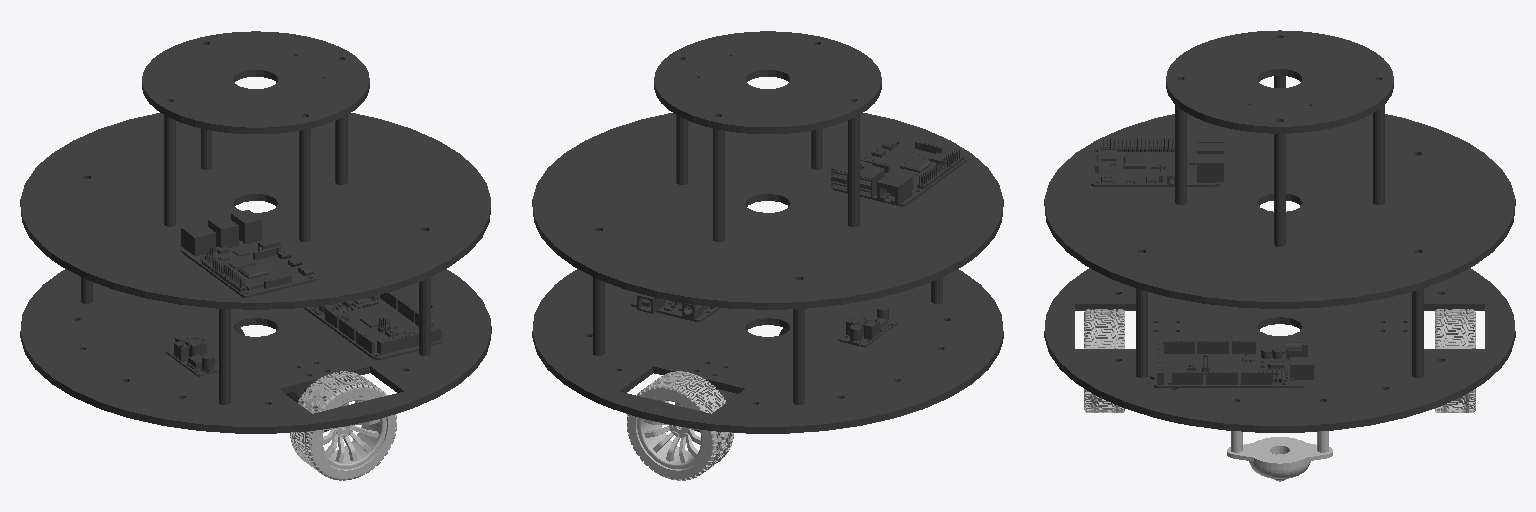
URDF robot description (krontonbot):
<?xml version="1.0" encoding="utf-8"?>
<!-- This URDF was automatically created by SolidWorks to URDF Exporter! Originally created by Stephen Brawner (brawner@gmail.com) 
     Commit Version: 1.6.0-1-g15f4949  Build Version: 1.6.7594.29634
     For more information, please see http://wiki.ros.org/sw_urdf_exporter -->
<robot
  name="krontonbot">
  <link
    name="base_link">
    <inertial>
      <origin
        xyz="-8.53428389885336E-05 -0.00202496133622002 0.059024928729213"
        rpy="0 0 0" />
      <mass
        value="1.16652586484334" />
      <inertia
        ixx="0.00559816194279088"
        ixy="4.88502656787066E-08"
        ixz="-3.25439864111426E-08"
        iyy="0.00608429215928661"
        iyz="1.90242300588512E-07"
        izz="0.01165291250337" />
    </inertial>
    <visual>
      <origin
        xyz="0 0 0"
        rpy="0 0 0" />
      <geometry>
        <mesh
          filename="package://krontonbot_description/meshes/base_link.STL" />
      </geometry>
      <material
        name="">
        <color
          rgba="0.298039215686275 0.298039215686275 0.298039215686275 1" />
      </material>
    </visual>
    <collision>
      <origin
        xyz="0 0 0"
        rpy="0 0 0" />
      <geometry>
        <mesh
          filename="package://krontonbot_description/meshes/base_link.STL" />
      </geometry>
    </collision>
  </link>
  <link
    name="left_wheel">
    <inertial>
      <origin
        xyz="6.2373E-10 -5.5317E-10 3.9908E-05"
        rpy="0 0 0" />
      <mass
        value="0.035175" />
      <inertia
        ixx="1.5237E-05"
        ixy="3.7076E-10"
        ixz="-5.6702E-14"
        iyy="1.5237E-05"
        iyz="4.8698E-14"
        izz="2.5786E-05" />
    </inertial>
    <visual>
      <origin
        xyz="0 0 0"
        rpy="0 0 0" />
      <geometry>
        <mesh
          filename="package://krontonbot_description/meshes/left_wheel.STL" />
      </geometry>
      <material
        name="">
        <color
          rgba="0.75294 0.75294 0.75294 1" />
      </material>
    </visual>
    <collision>
      <origin
        xyz="0 0 0"
        rpy="0 0 0" />
      <geometry>
        <mesh
          filename="package://krontonbot_description/meshes/left_wheel.STL" />
      </geometry>
    </collision>
  </link>
  <joint
    name="left_wheel_joint"
    type="continuous">
    <origin
      xyz="0 0.11511 -0.02"
      rpy="-1.5708 0 -3.1416" />
    <parent
      link="base_link" />
    <child
      link="left_wheel" />
    <axis
      xyz="0 0 -1" />
  </joint>
  <link
    name="right_wheel">
    <inertial>
      <origin
        xyz="8.58566440165021E-10 2.46938719472567E-11 -3.99077934541432E-05"
        rpy="0 0 0" />
      <mass
        value="0.0351748274831478" />
      <inertia
        ixx="1.52367980613616E-05"
        ixy="-3.68845709547513E-10"
        ixz="6.93589578763181E-14"
        iyy="1.52374644129476E-05"
        iyz="-8.10595878360431E-15"
        izz="2.57858861191368E-05" />
    </inertial>
    <visual>
      <origin
        xyz="0 0 0"
        rpy="0 0 0" />
      <geometry>
        <mesh
          filename="package://krontonbot_description/meshes/right_wheel.STL" />
      </geometry>
      <material
        name="">
        <color
          rgba="0.752941176470588 0.752941176470588 0.752941176470588 1" />
      </material>
    </visual>
    <collision>
      <origin
        xyz="0 0 0"
        rpy="0 0 0" />
      <geometry>
        <mesh
          filename="package://krontonbot_description/meshes/right_wheel.STL" />
      </geometry>
    </collision>
  </link>
  <joint
    name="right_wheel_joint"
    type="continuous">
    <origin
      xyz="0 -0.11511 -0.02"
      rpy="-1.5708 0 -3.1416" />
    <parent
      link="base_link" />
    <child
      link="right_wheel" />
    <axis
      xyz="0 0 -1" />
  </joint>
  <link
    name="front_caster">
    <inertial>
      <origin
        xyz="5.49015960071841E-06 -2.77555756156289E-17 0.00855457803590924"
        rpy="0 0 0" />
      <mass
        value="0.14008480560204" />
      <inertia
        ixx="2.2665271657638E-05"
        ixy="8.53942661662015E-22"
        ixz="-3.68962750472619E-09"
        iyy="1.62583470081429E-05"
        iyz="-2.73397173137152E-21"
        izz="3.40965805026056E-05" />
    </inertial>
    <visual>
      <origin
        xyz="0 0 0"
        rpy="0 0 0" />
      <geometry>
        <mesh
          filename="package://krontonbot_description/meshes/front_caster.STL" />
      </geometry>
      <material
        name="">
        <color
          rgba="0.752941176470588 0.752941176470588 0.752941176470588 1" />
      </material>
    </visual>
    <collision>
      <origin
        xyz="0 0 0"
        rpy="0 0 0" />
      <geometry>
        <mesh
          filename="package://krontonbot_description/meshes/front_caster.STL" />
      </geometry>
    </collision>
  </link>
  <joint
    name="front_caster_joint"
    type="fixed">
    <origin
      xyz="0.115 0 -0.046"
      rpy="0 0 0" />
    <parent
      link="base_link" />
    <child
      link="front_caster" />
    <axis
      xyz="0 0 0" />
  </joint>
  <link
    name="back_caster">
    <inertial>
      <origin
        xyz="5.4902E-06 0 0.0085546"
        rpy="0 0 0" />
      <mass
        value="0.14008" />
      <inertia
        ixx="2.2665E-05"
        ixy="-8.4066E-22"
        ixz="-3.6896E-09"
        iyy="1.6258E-05"
        iyz="-2.1779E-21"
        izz="3.4097E-05" />
    </inertial>
    <visual>
      <origin
        xyz="0 0 0"
        rpy="0 0 0" />
      <geometry>
        <mesh
          filename="package://krontonbot_description/meshes/back_caster.STL" />
      </geometry>
      <material
        name="">
        <color
          rgba="0.75294 0.75294 0.75294 1" />
      </material>
    </visual>
    <collision>
      <origin
        xyz="0 0 0"
        rpy="0 0 0" />
      <geometry>
        <mesh
          filename="package://krontonbot_description/meshes/back_caster.STL" />
      </geometry>
    </collision>
  </link>
  <joint
    name="back_caster_joint"
    type="fixed">
    <origin
      xyz="-0.115 0 -0.046"
      rpy="0 0 0" />
    <parent
      link="base_link" />
    <child
      link="back_caster" />
    <axis
      xyz="0 0 0" />
  </joint>
  <link
    name="laser">
    <inertial>
      <origin
        xyz="0.0057997 0.00025825 0.0039383"
        rpy="0 0 0" />
      <mass
        value="0.14299" />
      <inertia
        ixx="4.6252E-05"
        ixy="2.6014E-07"
        ixz="3.6105E-06"
        iyy="7.3499E-05"
        iyz="-3.5217E-07"
        izz="0.00010796" />
    </inertial>
    <visual>
      <origin
        xyz="0 0 0"
        rpy="0 0 0" />
      <geometry>
        <mesh
          filename="package://krontonbot_description/meshes/laser.STL" />
      </geometry>
      <material
        name="">
        <color
          rgba="0.10196 0.10196 0.10196 1" />
      </material>
    </visual>
    <collision>
      <origin
        xyz="0 0 0"
        rpy="0 0 0" />
      <geometry>
        <mesh
          filename="package://krontonbot_description/meshes/laser.STL" />
      </geometry>
    </collision>
  </link>
  <joint
    name="laser_joint"
    type="fixed">
    <origin
      xyz="-0.0014081 0.0017337 0.2161"
      rpy="0 0 0" />
    <parent
      link="base_link" />
    <child
      link="laser" />
    <axis
      xyz="0 0 0" />
  </joint>
  <link
    name="imu_link">
    <inertial>
      <origin
        xyz="0 0 0"
        rpy="0 0 0" />
      <mass
        value="0" />
      <inertia
        ixx="0"
        ixy="0"
        ixz="0"
        iyy="0"
        iyz="0"
        izz="0" />
    </inertial>
    <visual>
      <origin
        xyz="0 0 0"
        rpy="0 0 0" />
      <geometry>
        <mesh
          filename="package://krontonbot_description/meshes/imu_link.STL" />
      </geometry>
      <material
        name="">
        <color
          rgba="1 1 1 1" />
      </material>
    </visual>
    <collision>
      <origin
        xyz="0 0 0"
        rpy="0 0 0" />
      <geometry>
        <mesh
          filename="package://krontonbot_description/meshes/imu_link.STL" />
      </geometry>
    </collision>
  </link>
  <joint
    name="imu_joint"
    type="fixed">
    <origin
      xyz="0.088 0.00010919 -0.008783"
      rpy="0 0 0" />
    <parent
      link="base_link" />
    <child
      link="imu_link" />
    <axis
      xyz="0 1 0" />
    <limit
      lower="0"
      upper="0"
      effort="0"
      velocity="0" />
  </joint>
</robot>

--- What the picture shows (computed from the rendered views, not written in the file) ---
The picture shows the robot from 3 angles, left to right: view 1: azimuth 30°, elevation 25°; view 2: azimuth 150°, elevation 25°; view 3: azimuth 270°, elevation 25°; orthographic projection.
Robot: krontonbot — 7 links, 6 joints (2 continuous, 4 fixed); root link base_link; default pose: every joint at zero.
Links seen in each view (by area): view 1: base_link, right_wheel; view 2: base_link, left_wheel; view 3: base_link, front_caster, left_wheel, right_wheel.
Link boxes in pixels (x1,y1,x2,y2): base_link: [20, 31, 491, 433]; right_wheel: [290, 371, 396, 480]; base_link: [532, 31, 1003, 433]; left_wheel: [627, 371, 733, 480]; base_link: [1044, 30, 1515, 432]; front_caster: [1227, 431, 1332, 481]; left_wheel: [1435, 309, 1475, 412]; right_wheel: [1084, 309, 1124, 412].
Bounding box of the posed robot: 0.31 × 0.3097 × 0.239 m (x, y, z).
5 mesh visuals loaded from 7 distinct referenced files (5 binary STL); not drawn: 2 (reference not matched to a file when rendering).
